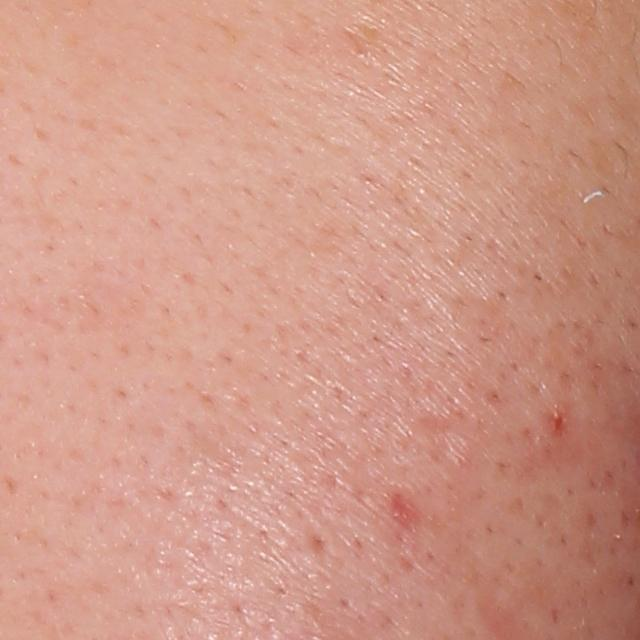atrophic_scar: (408, 410, 485, 492)
